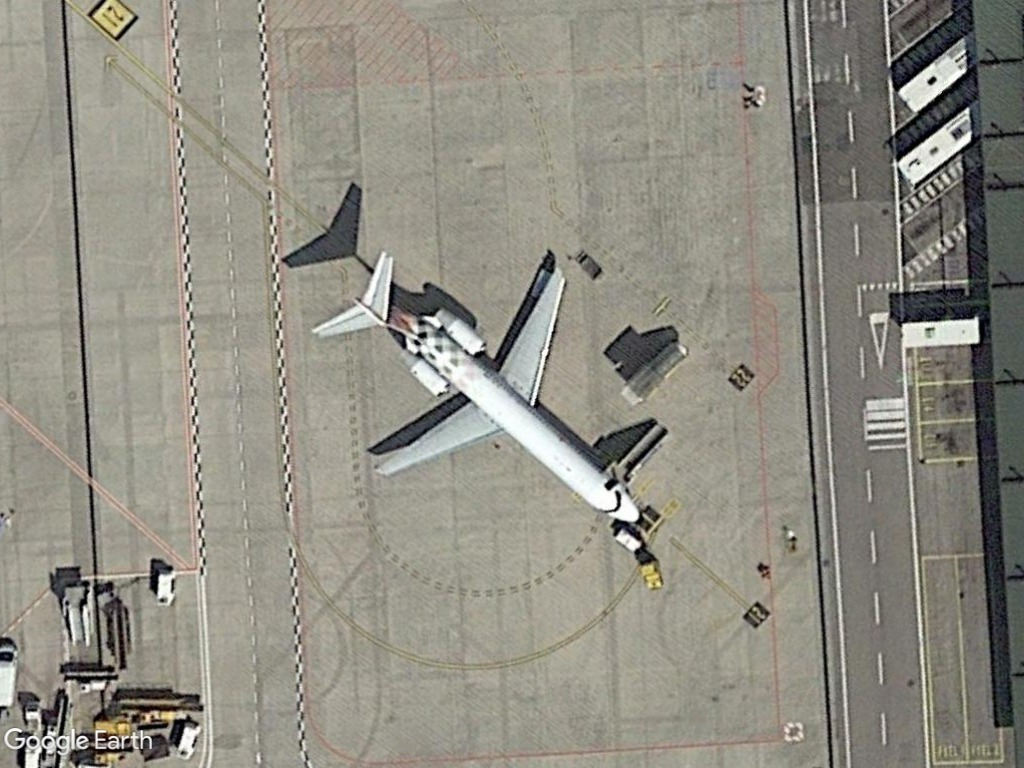chartered: (316, 231, 646, 530)
stairtruck: (607, 416, 674, 492), (59, 578, 100, 649)
